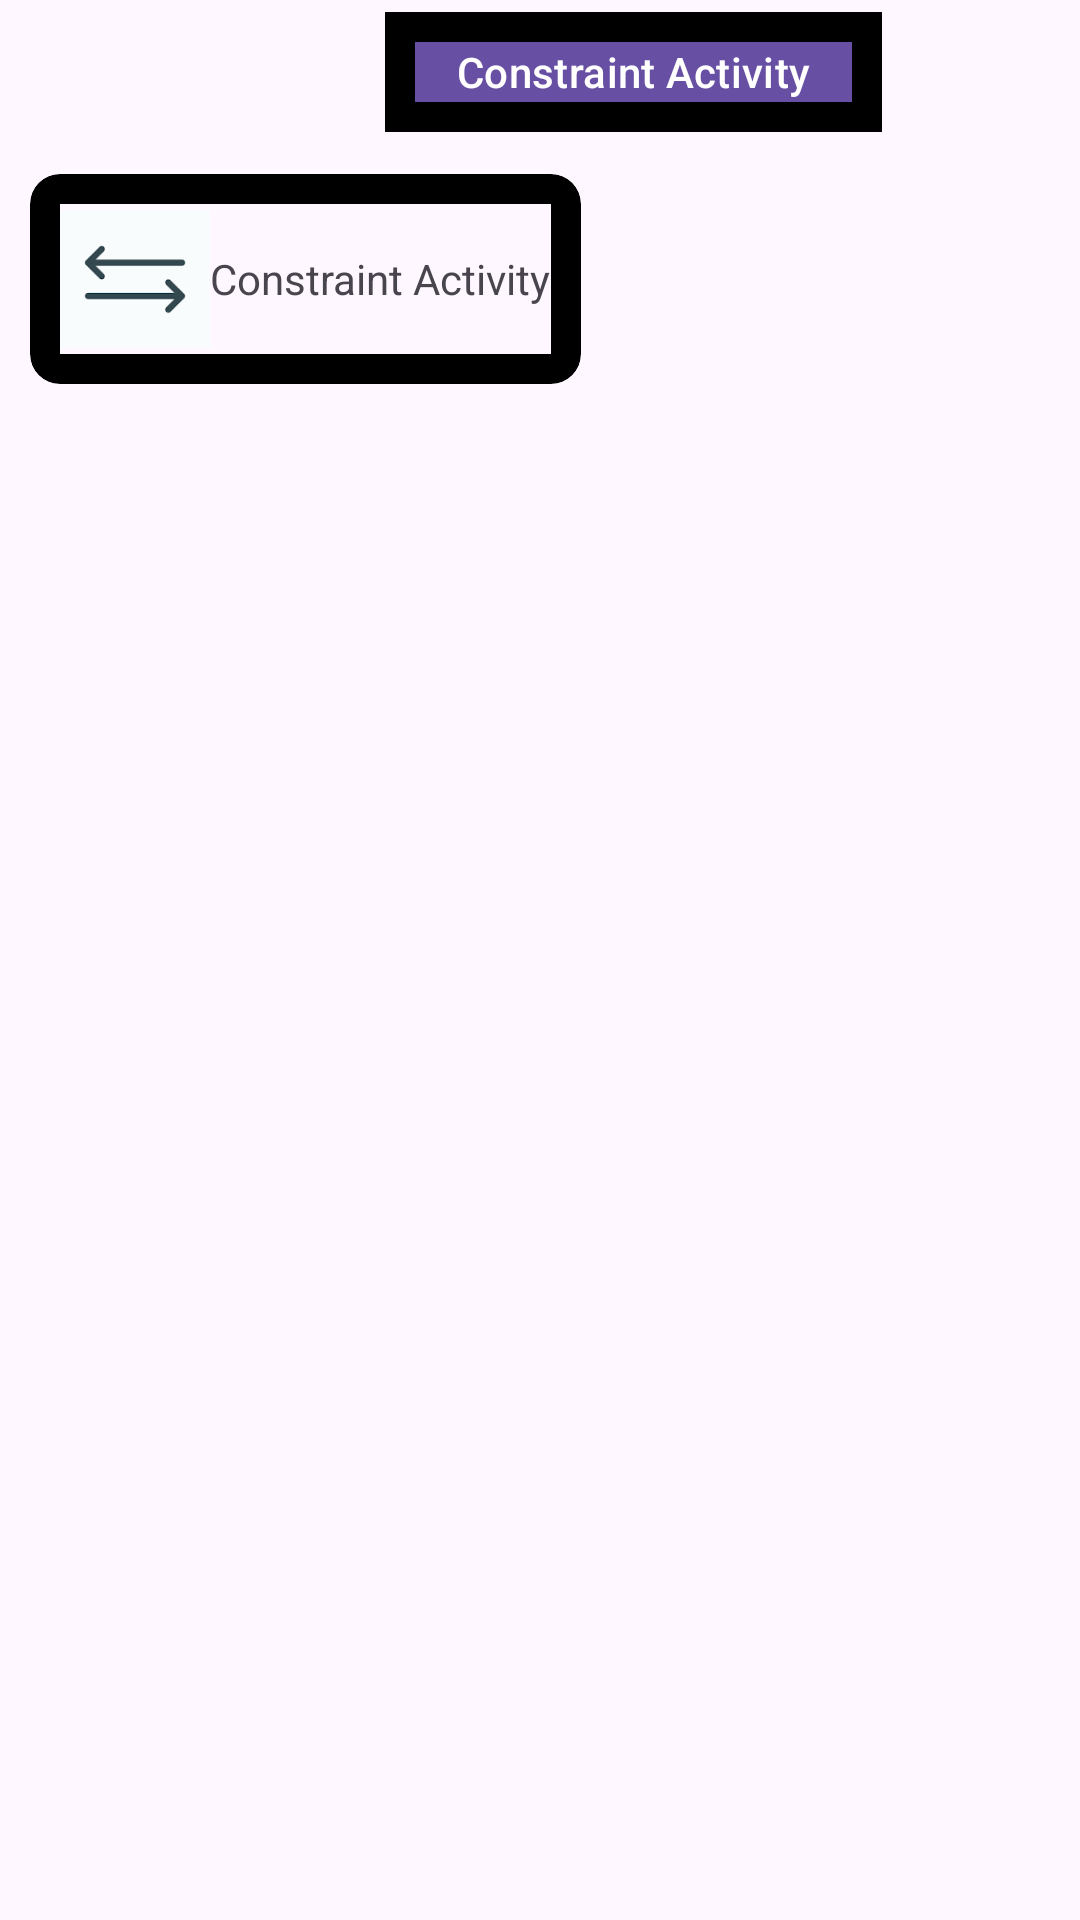

Named icons in this screenshot (1080px×1920px) and their bounding boxes, bbox(x1, y1, x2, y2):
arrow: bbox(60, 204, 210, 354)
